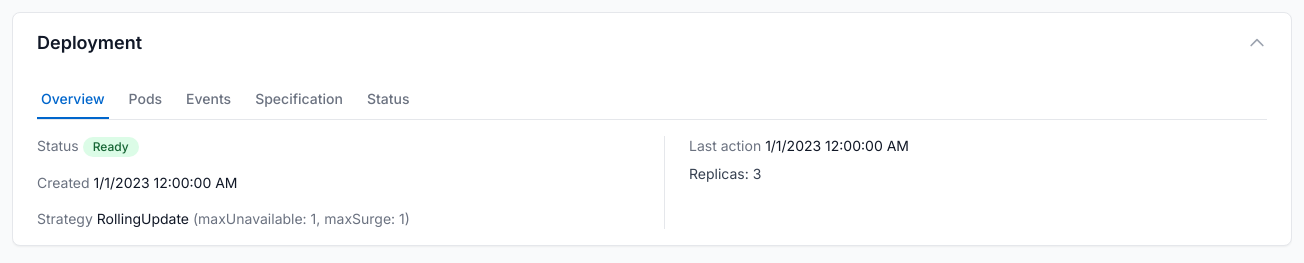
Scenario: WorkloadDetailPanel component › Pods tab › should show "No pods found" when pods list is empty
What coordinates should you click on to do the following:
click the button "Pods"
I would click on:
 (145, 100)
Its box is [124,81,166,119].
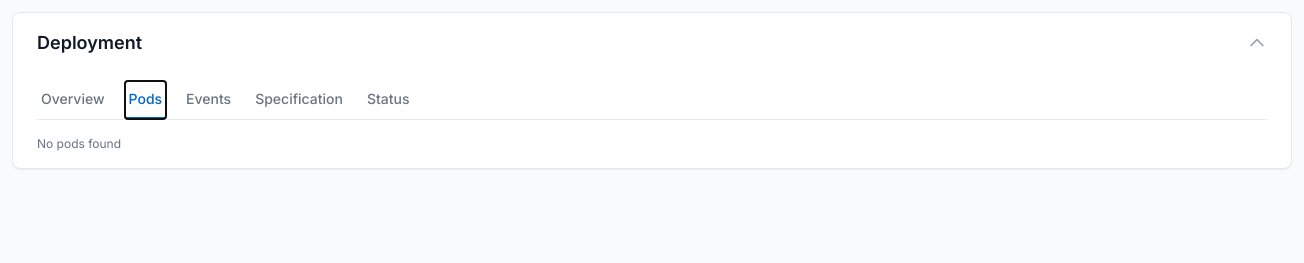
Now the text "No pods found" is shown, box [37,136,121,151]
